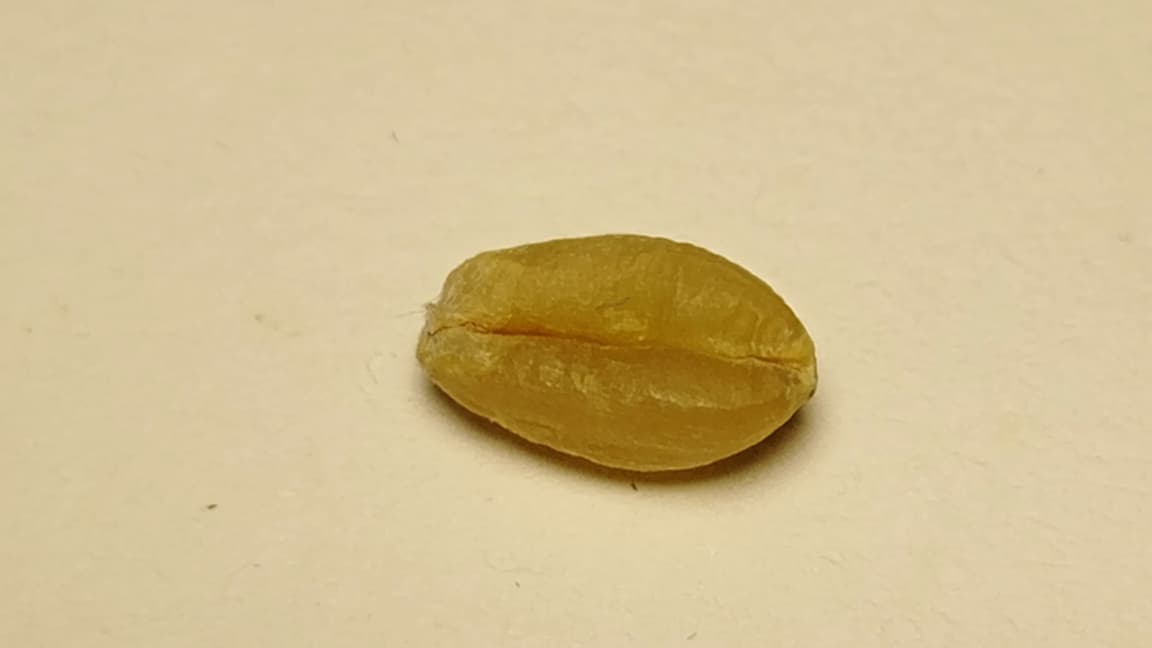healthy: (417, 235, 816, 470)
